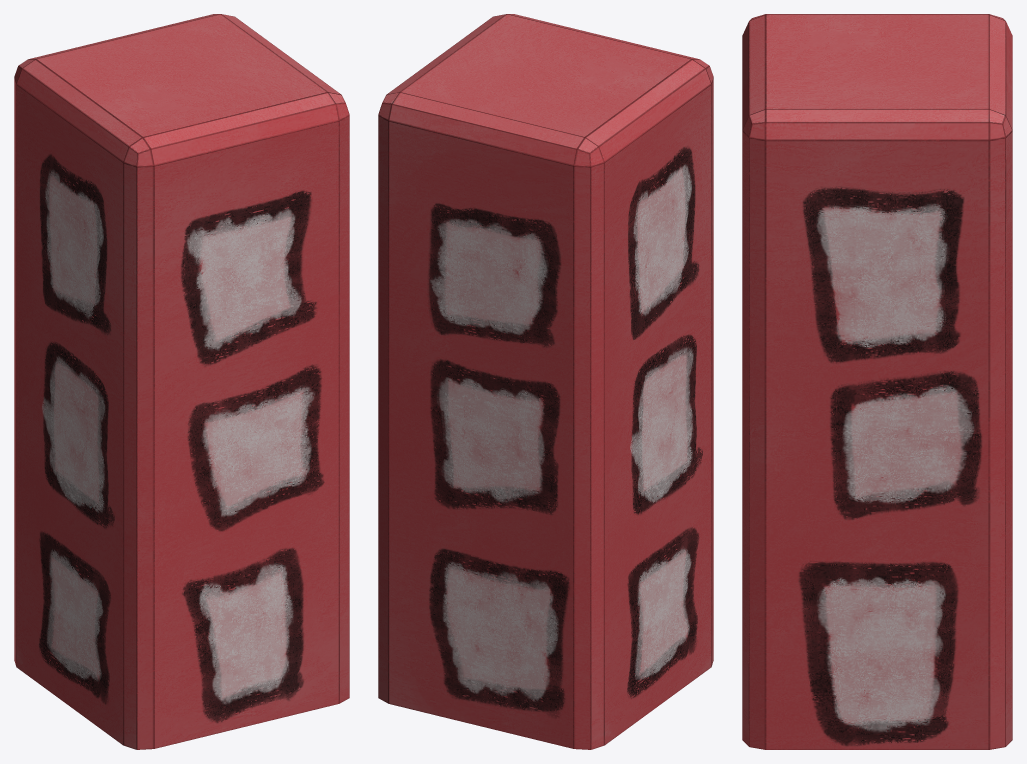
The model's file is plot_building_1.fbx.
3 views of the same model, side by side, from view 1: azimuth 30°, elevation 25°; view 2: azimuth 150°, elevation 25°; view 3: azimuth 270°, elevation 25° (orthographic). The views are drawn at different scales.
Parts seen in each view (by area): view 1: Cube.001; view 2: Cube.001; view 3: Cube.001.
Boxes of the visible parts, <box> form: Cube.001: <box>14,14,349,749</box>; Cube.001: <box>378,14,713,749</box>; Cube.001: <box>742,14,1012,749</box>.
Size of the model in its own units: 200 by 514 by 200.
